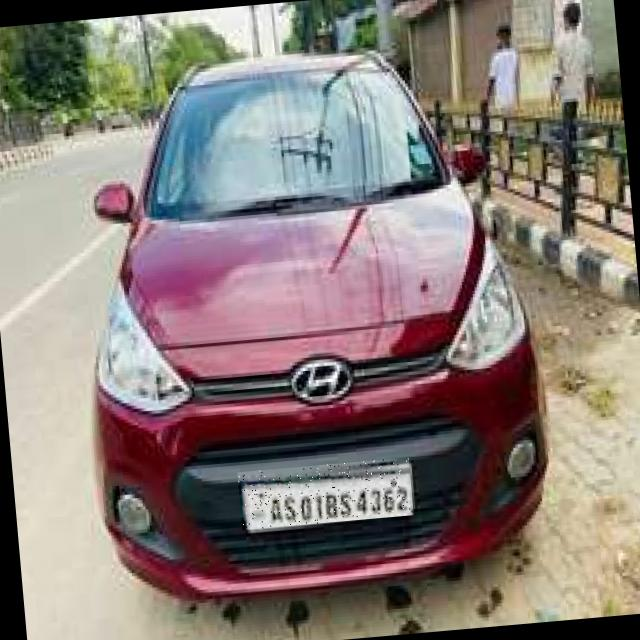Plate: (238, 458, 414, 531)
